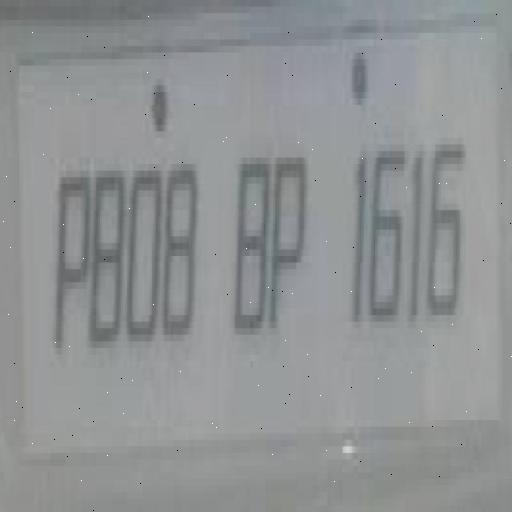number plate: (11, 6, 512, 486)
